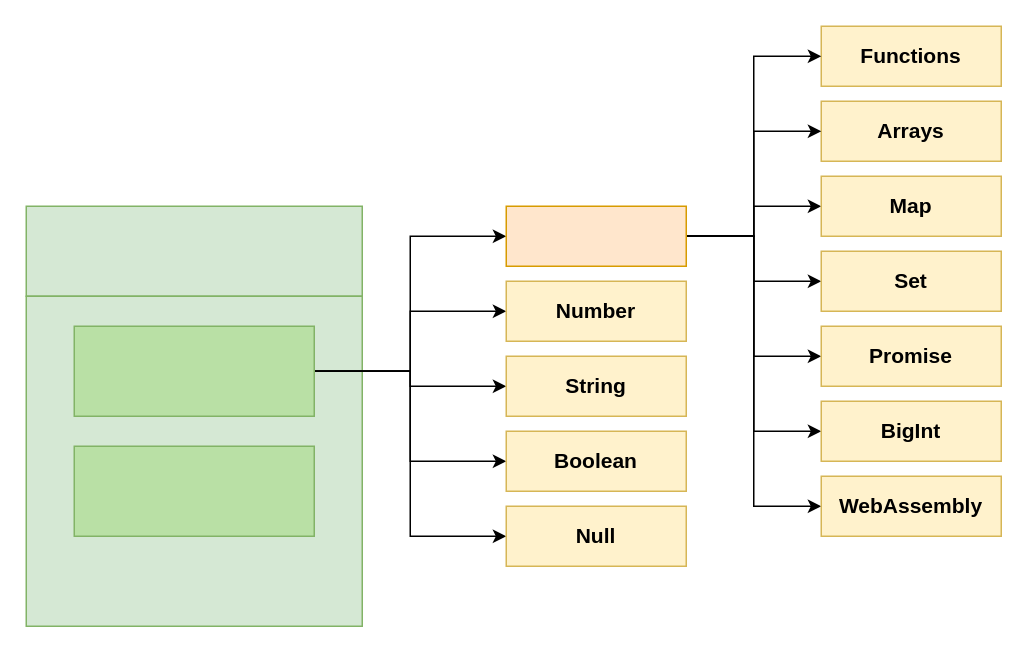
Image size: 1028x653. Some labels were removed from this diagram. Each missing label, with the centre of its shape:
Built-in Object: the point at 595,235
Javascript Objects: the point at 193,250
Methods: the point at 193,490
Properties: the point at 193,370
